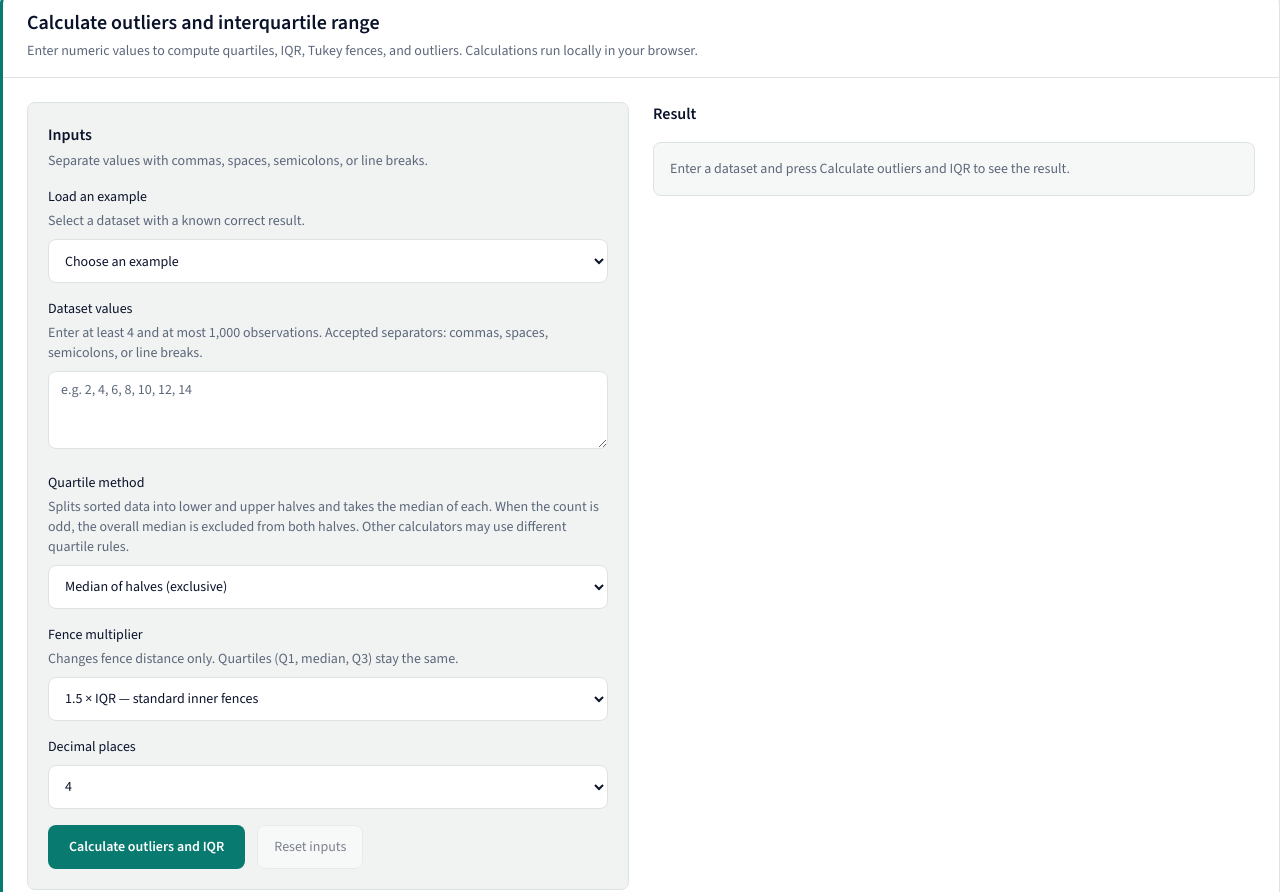
Test case: Outlier/IQR Calculator Page V2 regression › returns the F02 fixture values under default settings
This screenshot has width=1280, height=892.
Type "1, 2, 3, 4, 5, 6, 7, 8, 9, 100" into the text box labelled "Dataset values" at [328, 410], box x1=48 y1=371 x2=608 y2=449
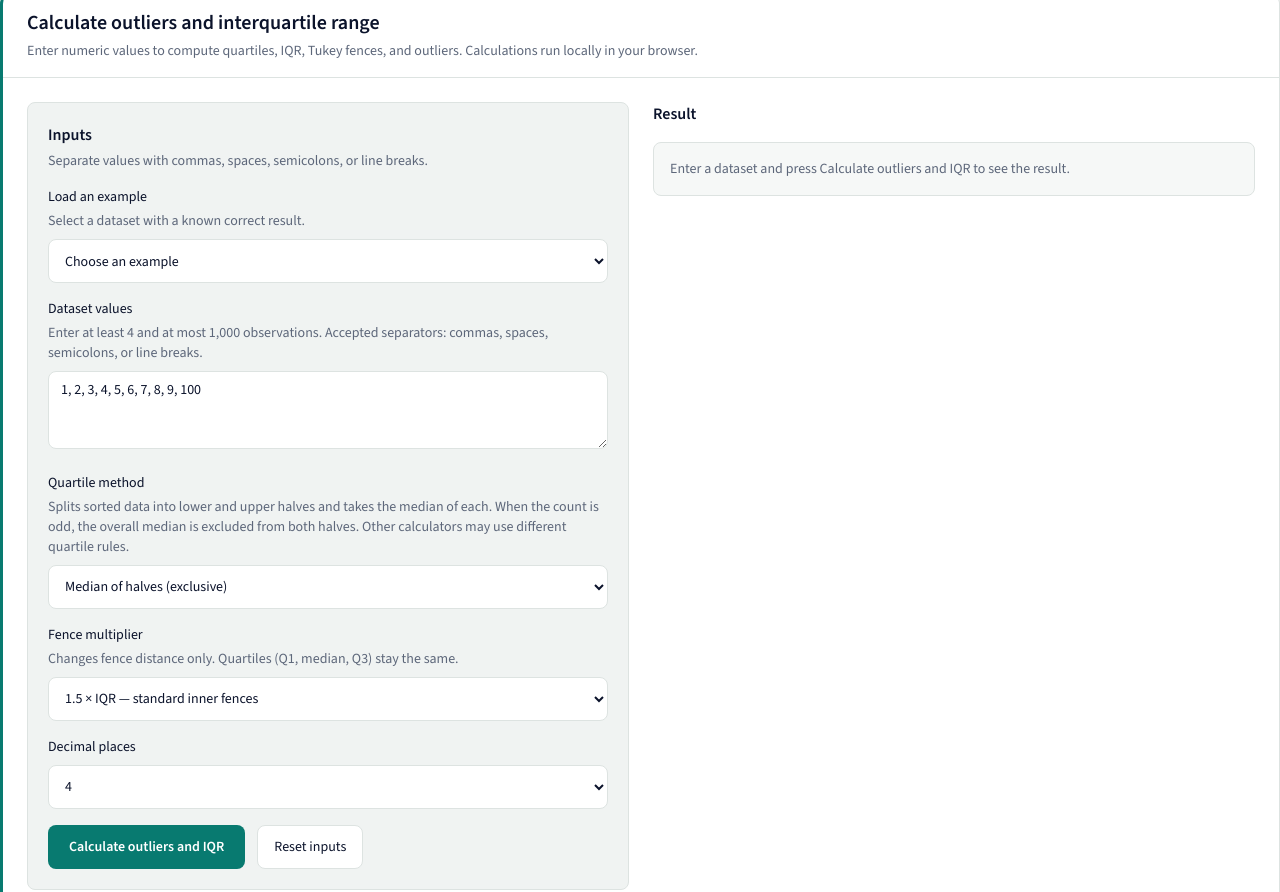
Click the button "Calculate outliers and IQR" at [147, 847], box x1=48 y1=825 x2=245 y2=869
(page scrolled)
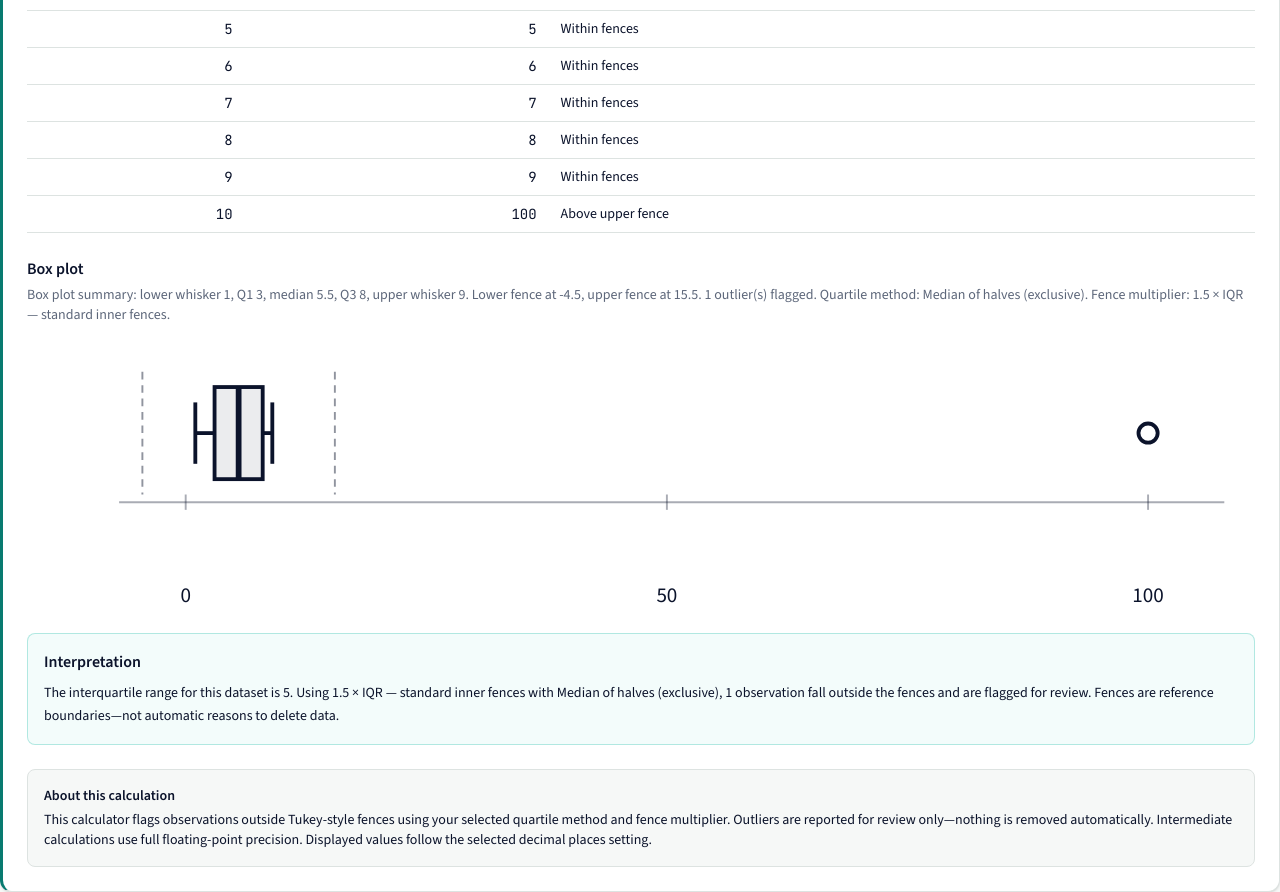
Result: the picture named "box plot of dataset quartiles and outliers" is shown at x1=27 y1=341 x2=1255 y2=609
